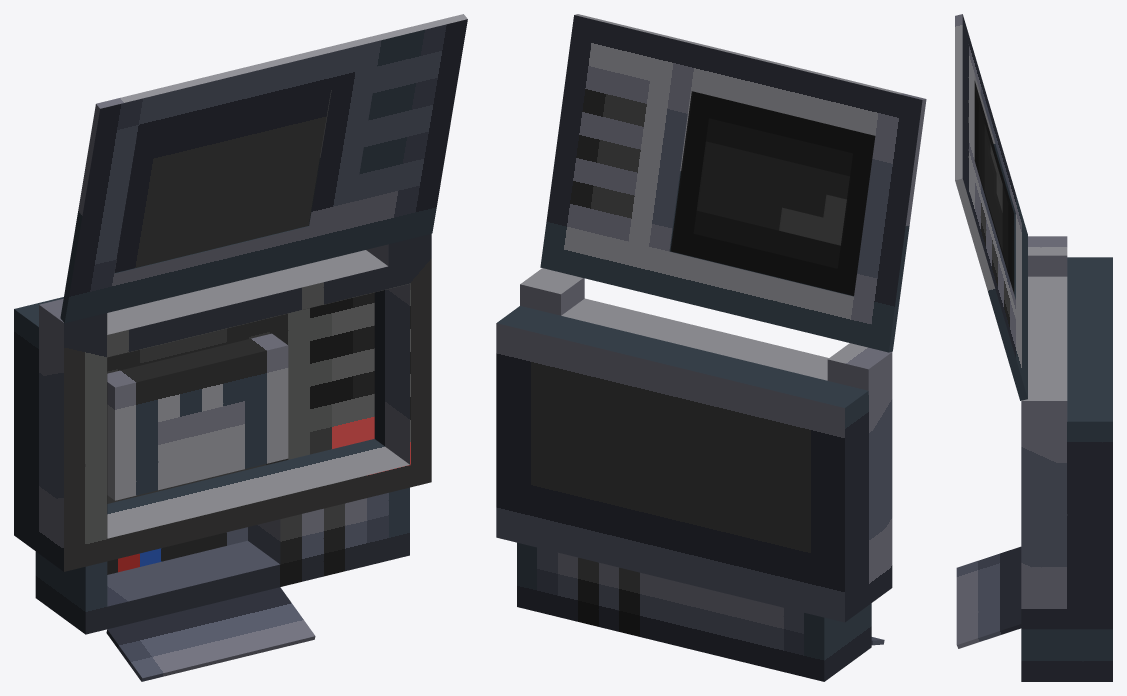
File: apc_open_cell.glb
3 renders of one model, left to right at view 1: azimuth 30°, elevation 25°; view 2: azimuth 150°, elevation 25°; view 3: azimuth 270°, elevation 25°, orthographic. The views are drawn at different scales.
Visible parts, largest first — view 1: Lined_Enclosure, Main_Cover, Display_Back, Removable_Power_Cell, Lower_Control_Housing, Interior_Backplate, Wiring_Cover, Removable_Control_Board, Wire_Terminal_Block; view 2: Lined_Enclosure, Main_Cover, Display_Glass, Lower_Control_Housing; view 3: Lined_Enclosure, Main_Cover, Wiring_Cover, Lower_Control_Housing, Display_Glass.
Boxes of the visible parts, x1,y1,x2,y2 form: Lined_Enclosure: (14,234,431,571); Main_Cover: (60,14,467,323); Display_Back: (114,90,330,273); Removable_Power_Cell: (107,333,288,500); Lower_Control_Housing: (35,487,409,634); Interior_Backplate: (107,292,374,503); Wiring_Cover: (106,587,315,681); Removable_Control_Board: (107,318,269,373); Wire_Terminal_Block: (107,527,247,574); Lined_Enclosure: (496,268,892,622); Main_Cover: (540,14,926,352); Display_Glass: (670,91,875,295); Lower_Control_Housing: (517,542,871,681); Lined_Enclosure: (1021,236,1112,629); Main_Cover: (955,14,1027,400); Wiring_Cover: (956,546,1021,648); Lower_Control_Housing: (1021,629,1112,681); Display_Glass: (974,81,1014,293).
Size of the model in its own units: 0.4781 by 0.7293 by 0.194.
2 materials, 2 textured.
